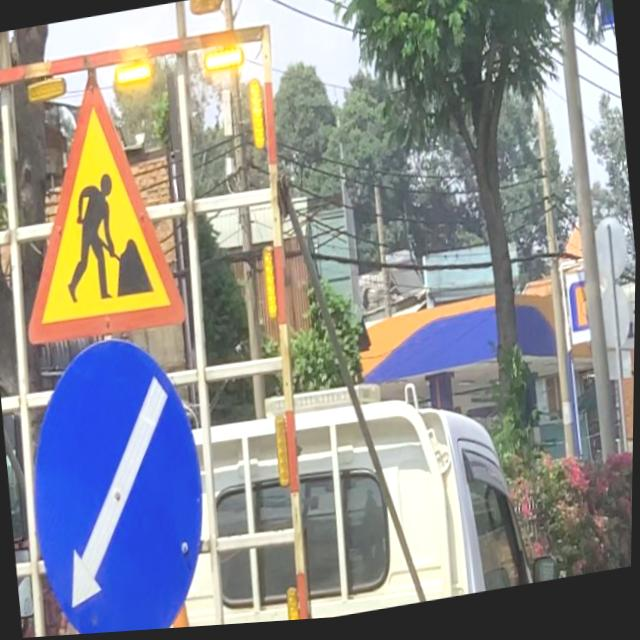Vong chuong ngai vat sang trai: (17, 325, 221, 639)
